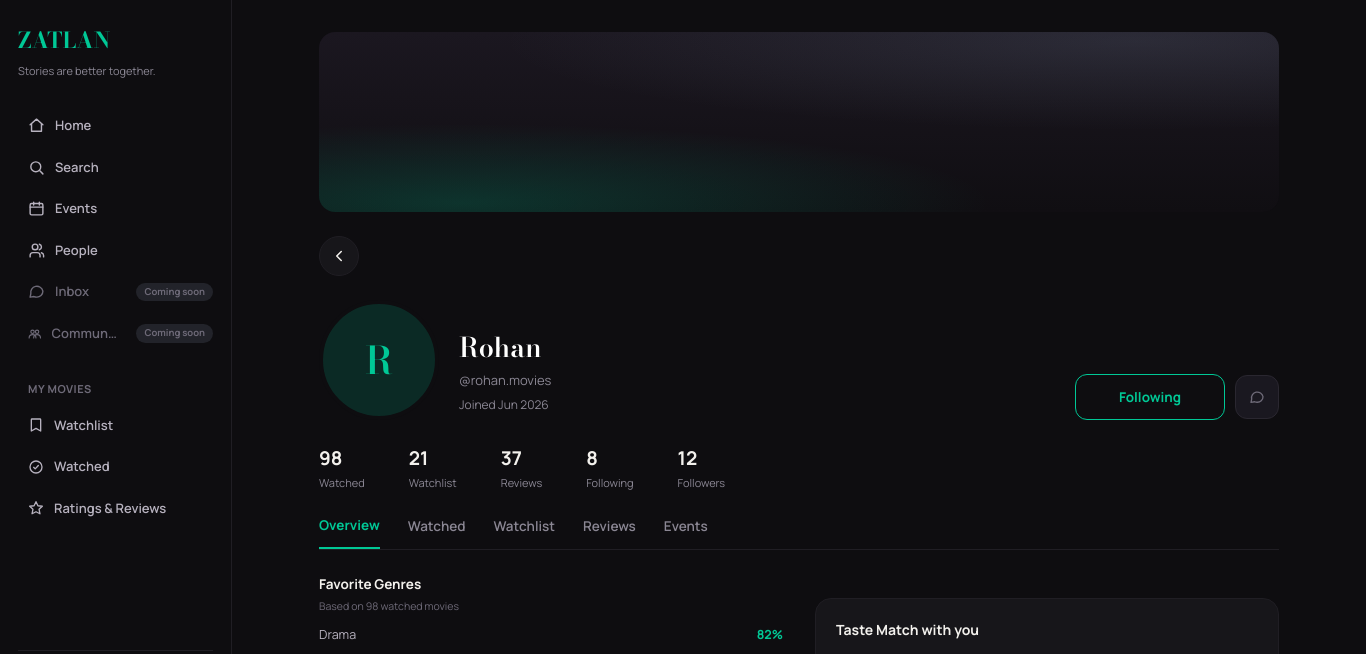
Test: Profile › confirms before unfollowing when clicking Following, then unfollows once confirmed
Click the button "Following".
click(1150, 397)  # box [1075, 374, 1225, 420]
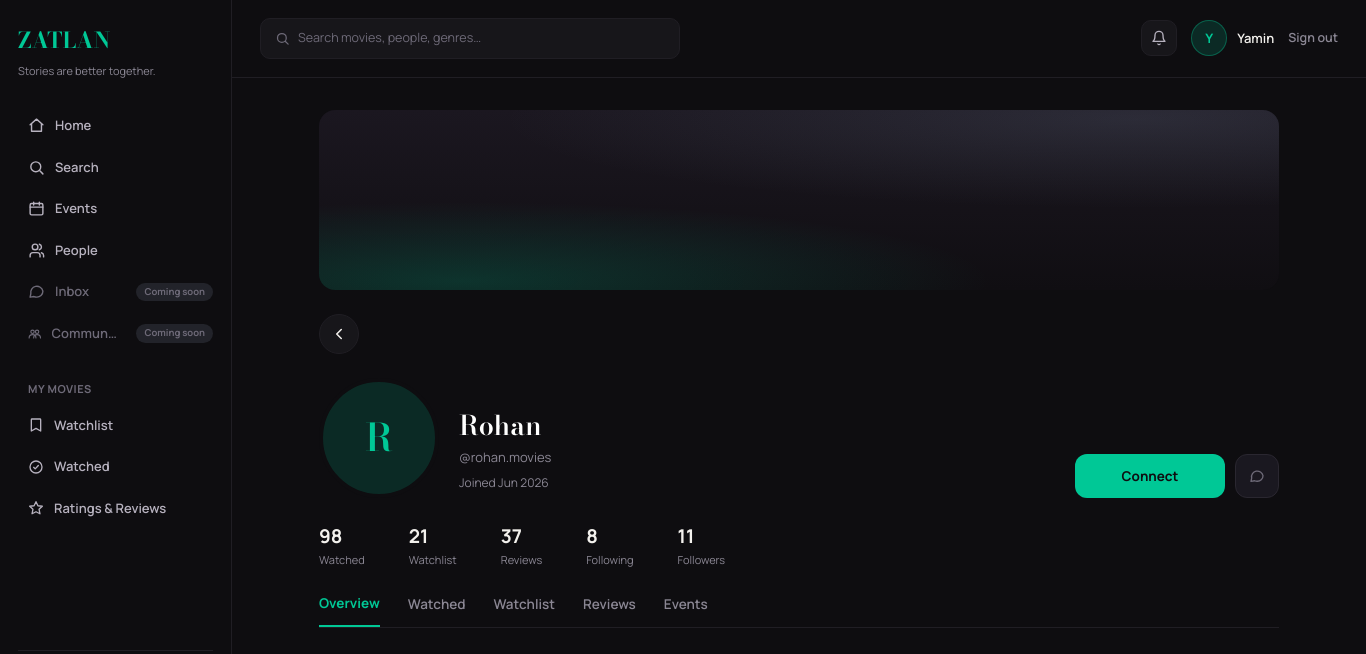
Now the button "Connect" is shown, box [1075, 454, 1225, 498]
